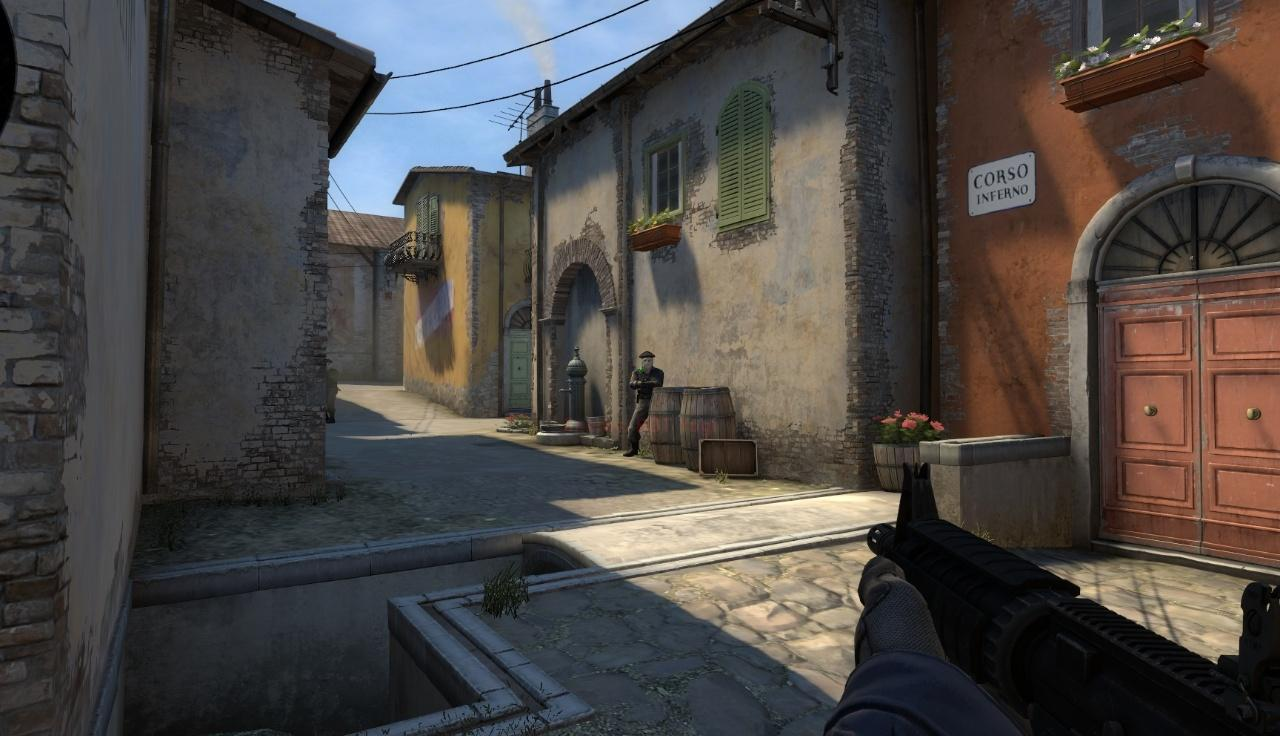rifle: (855, 467, 1279, 732)
tt: (623, 350, 664, 458), (326, 358, 338, 424)
tthead: (641, 352, 654, 371), (326, 359, 332, 371)
